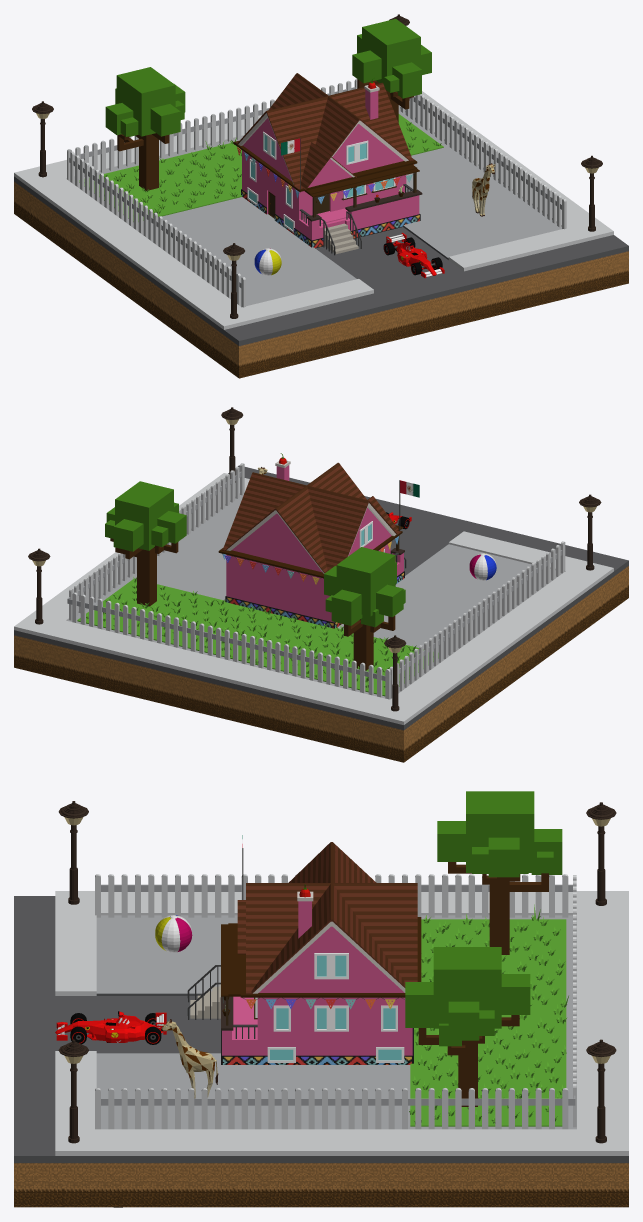
3 views of the same model, one above another, from view 1: azimuth 30°, elevation 25°; view 2: azimuth 150°, elevation 25°; view 3: azimuth 270°, elevation 25° (orthographic). The views are drawn at different scales.
Parts seen in each view (by area): view 1: Cube.004, Cube.1005, VEHICLES_FORMULA_1, ANIMAL_JIRAFA, OBJRANDOM_BEACHBALL; view 2: Cube.004, Cube.1005, OBJRANDOM_BEACHBALL; view 3: Cube.004, Cube.1005, VEHICLES_FORMULA_1, ANIMAL_JIRAFA, OBJRANDOM_BEACHBALL.
Boxes of the visible parts, bbox=[...] form: Cube.004: bbox=[14, 14, 628, 378]; Cube.1005: bbox=[233, 73, 422, 255]; VEHICLES_FORMULA_1: bbox=[383, 232, 444, 278]; ANIMAL_JIRAFA: bbox=[472, 163, 495, 216]; OBJRANDOM_BEACHBALL: bbox=[254, 248, 281, 275]; Cube.004: bbox=[14, 407, 628, 762]; Cube.1005: bbox=[218, 453, 419, 628]; OBJRANDOM_BEACHBALL: bbox=[469, 553, 496, 580]; Cube.004: bbox=[14, 791, 628, 1207]; Cube.1005: bbox=[187, 835, 421, 1064]; VEHICLES_FORMULA_1: bbox=[55, 1011, 166, 1044]; ANIMAL_JIRAFA: bbox=[161, 1019, 218, 1098]; OBJRANDOM_BEACHBALL: bbox=[155, 915, 192, 952].
Size of the model in its own units: 4000 by 1660 by 4000.
73 materials, 5 textured.
